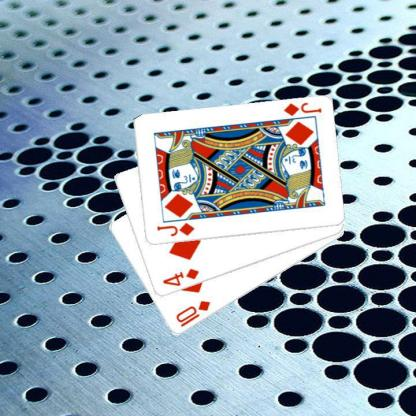10D: (174, 298, 212, 329)
4D: (160, 266, 200, 288)
JD: (154, 220, 196, 238), (281, 100, 322, 118)
